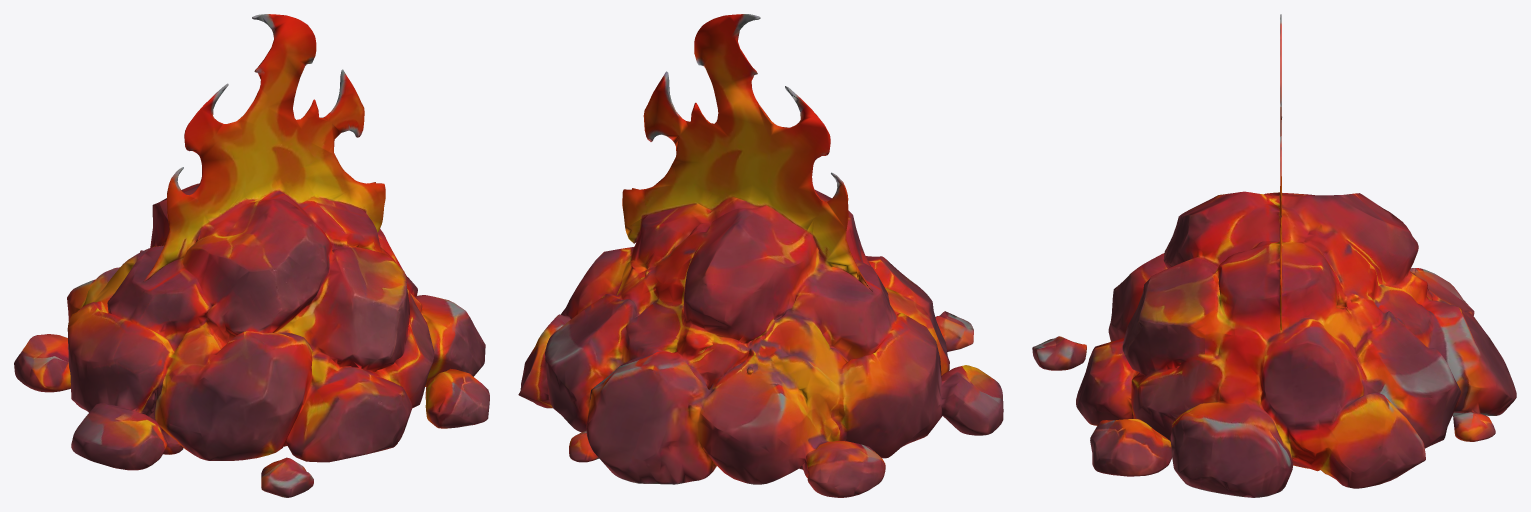
File: rocas.glb
The picture shows the model from 3 angles, left to right: view 1: azimuth 30°, elevation 25°; view 2: azimuth 150°, elevation 25°; view 3: azimuth 270°, elevation 25°; orthographic projection. The views are drawn at different scales.
Parts seen in each view (by area): view 1: tripo_node_d73562a7-f2ca-4cc8-92d5-f8dfbed0f3cd; view 2: tripo_node_d73562a7-f2ca-4cc8-92d5-f8dfbed0f3cd; view 3: tripo_node_d73562a7-f2ca-4cc8-92d5-f8dfbed0f3cd.
Part boxes in pixels (x1,y1,x2,y2): tripo_node_d73562a7-f2ca-4cc8-92d5-f8dfbed0f3cd: [14, 14, 489, 497]; tripo_node_d73562a7-f2ca-4cc8-92d5-f8dfbed0f3cd: [518, 14, 1003, 497]; tripo_node_d73562a7-f2ca-4cc8-92d5-f8dfbed0f3cd: [1032, 14, 1516, 497].
Bounding box in the file's own units: 0.9892 × 0.8854 × 0.9996.
Materials: 1 (1 with a texture image).
